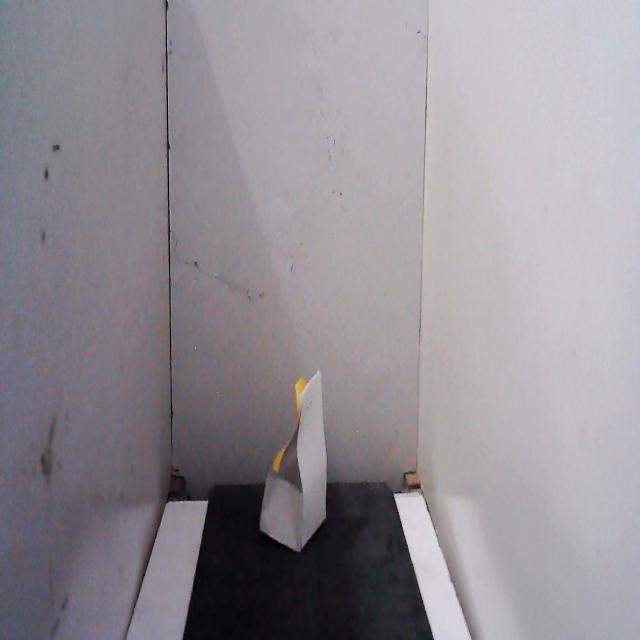papel: (255, 362, 335, 564)
